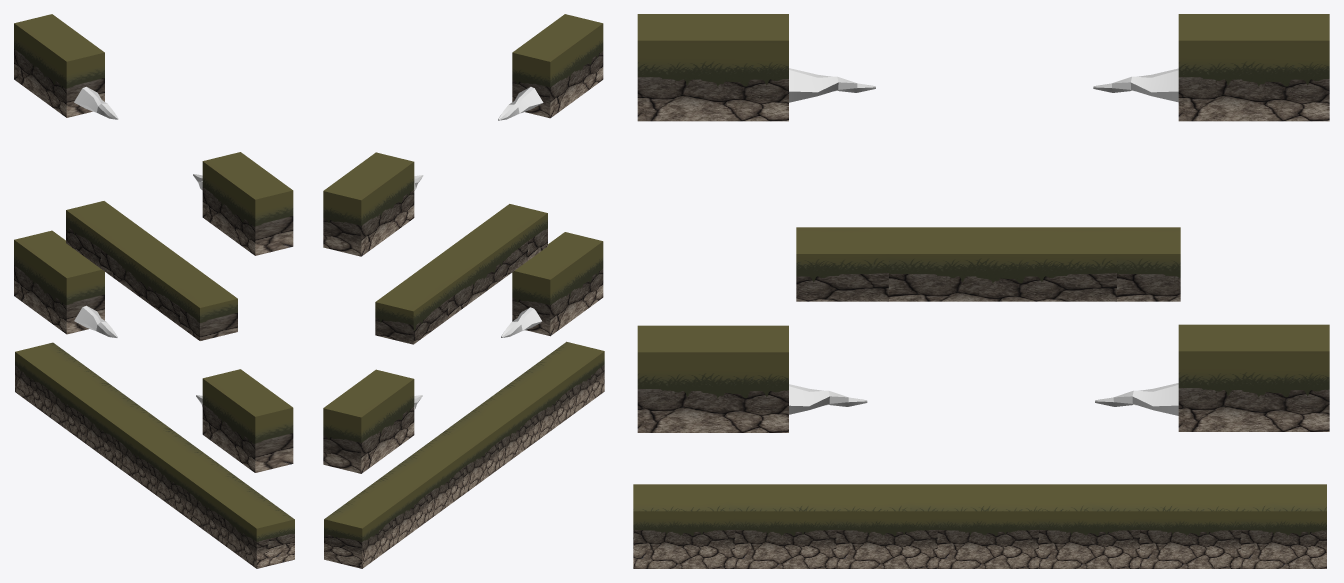
The model's file is Region_2_Level_2.fbx.
3 renders of one model, left to right at view 1: azimuth 30°, elevation 25°; view 2: azimuth 150°, elevation 25°; view 3: azimuth 270°, elevation 25°, orthographic. The views are drawn at different scales.
Visible parts, largest first — view 1: Cube.020, Cube.009, Cube.004, Cube.003, Cube.002, Cube.005, Cube.008, Cube.007; view 2: Cube.020, Cube.009, Cube.005, Cube.002, Cube.004, Cube.003, Cube.006, Cube.001; view 3: Cube.020, Cube.009, Cube.005, Cube.002, Cube.003, Cube.004, Cube.006, Cube.008, Cube.007, Cube.001.
Boxes of the visible parts, x1,y1,x2,y2 form: Cube.020: [15, 342, 294, 568]; Cube.009: [66, 201, 237, 340]; Cube.004: [202, 369, 293, 472]; Cube.003: [202, 152, 293, 255]; Cube.002: [14, 14, 104, 117]; Cube.005: [14, 230, 104, 334]; Cube.008: [74, 86, 118, 119]; Cube.007: [74, 305, 117, 337]; Cube.020: [324, 341, 604, 568]; Cube.009: [375, 204, 547, 344]; Cube.005: [323, 369, 414, 473]; Cube.002: [323, 152, 414, 256]; Cube.004: [512, 232, 603, 336]; Cube.003: [512, 14, 603, 118]; Cube.006: [498, 87, 543, 120]; Cube.001: [501, 307, 541, 337]; Cube.020: [633, 484, 1326, 568]; Cube.009: [796, 227, 1180, 301]; Cube.005: [1178, 324, 1329, 431]; Cube.002: [1178, 14, 1329, 121]; Cube.003: [637, 14, 788, 121]; Cube.004: [637, 325, 788, 432]; Cube.006: [789, 68, 875, 102]; Cube.008: [1093, 68, 1178, 102]; Cube.007: [1095, 383, 1178, 415]; Cube.001: [789, 384, 867, 414].
Size of the model in its own units: 198 by 1825 by 2180.
